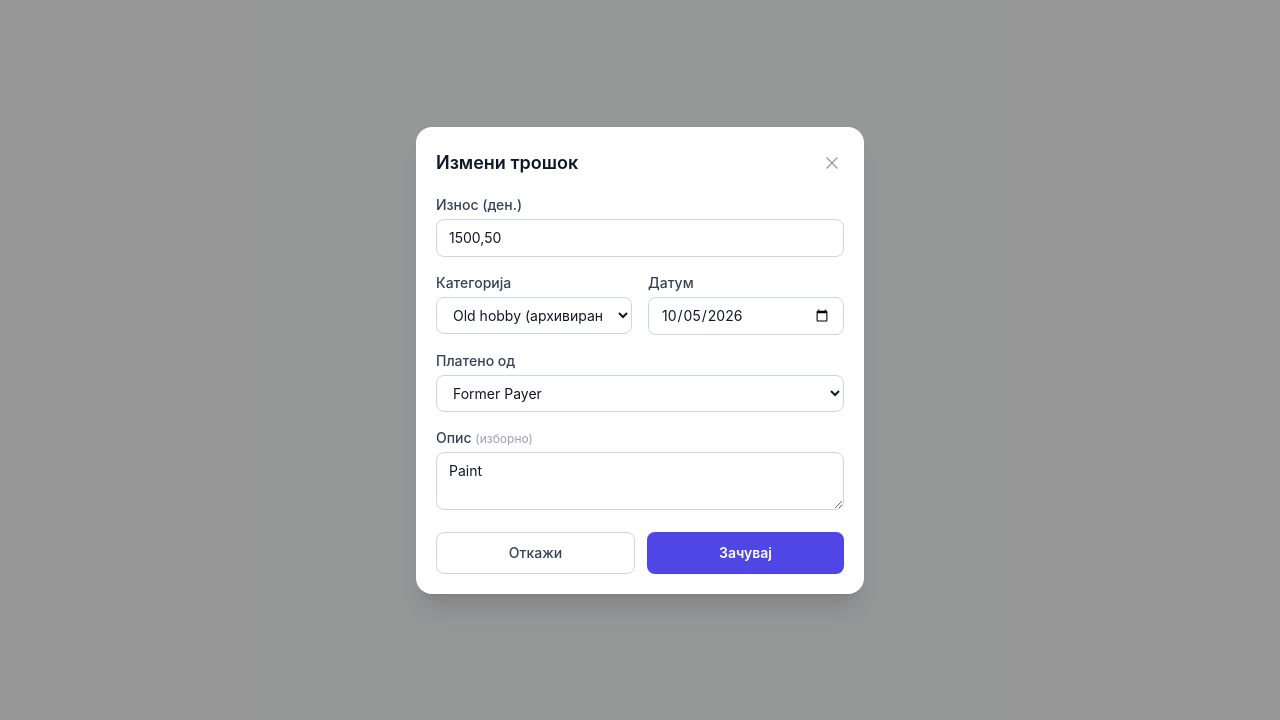
Test case: ExpenseDialog › shows Macedonian labels, a comma amount and Macedonian validation messages
expect the heading "Измени трошок" is shown: met, box [436,148,578,176]
Clear the field labelled "Износ (ден.)" at (640, 238), box [436,218,844,256]
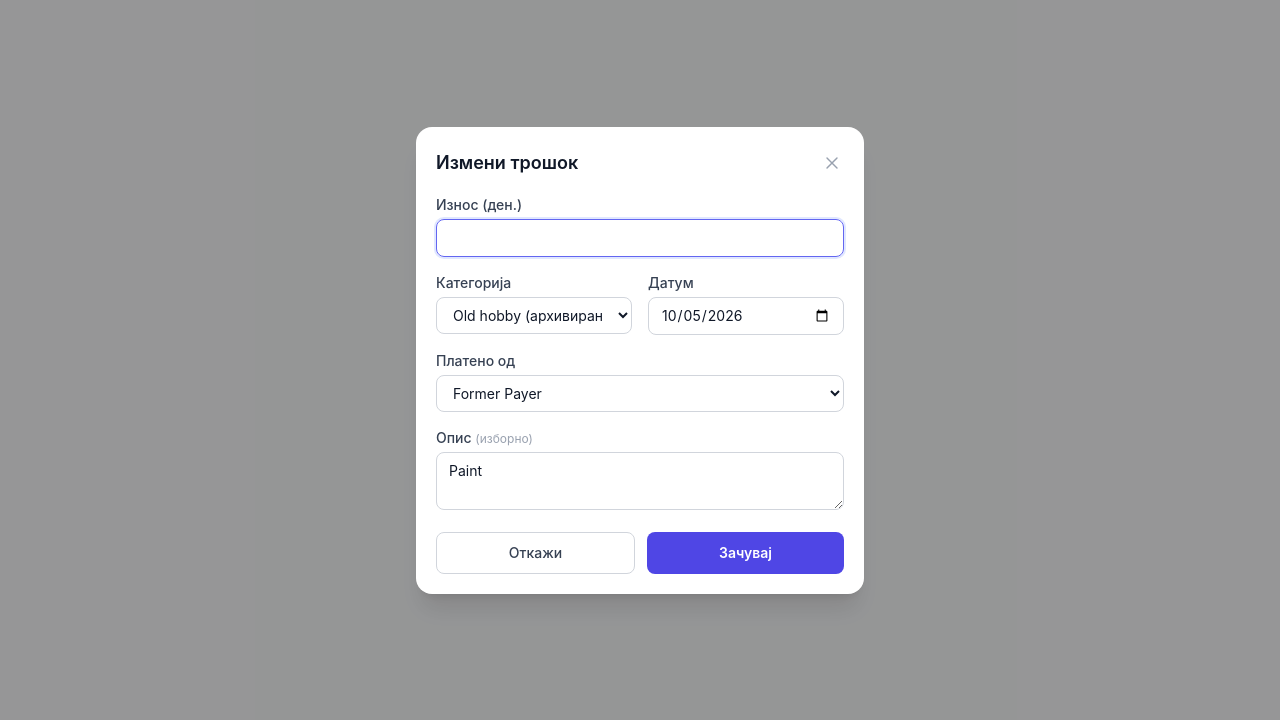
Click the button "Зачувај".
click(746, 552)  # box [647,532,844,574]
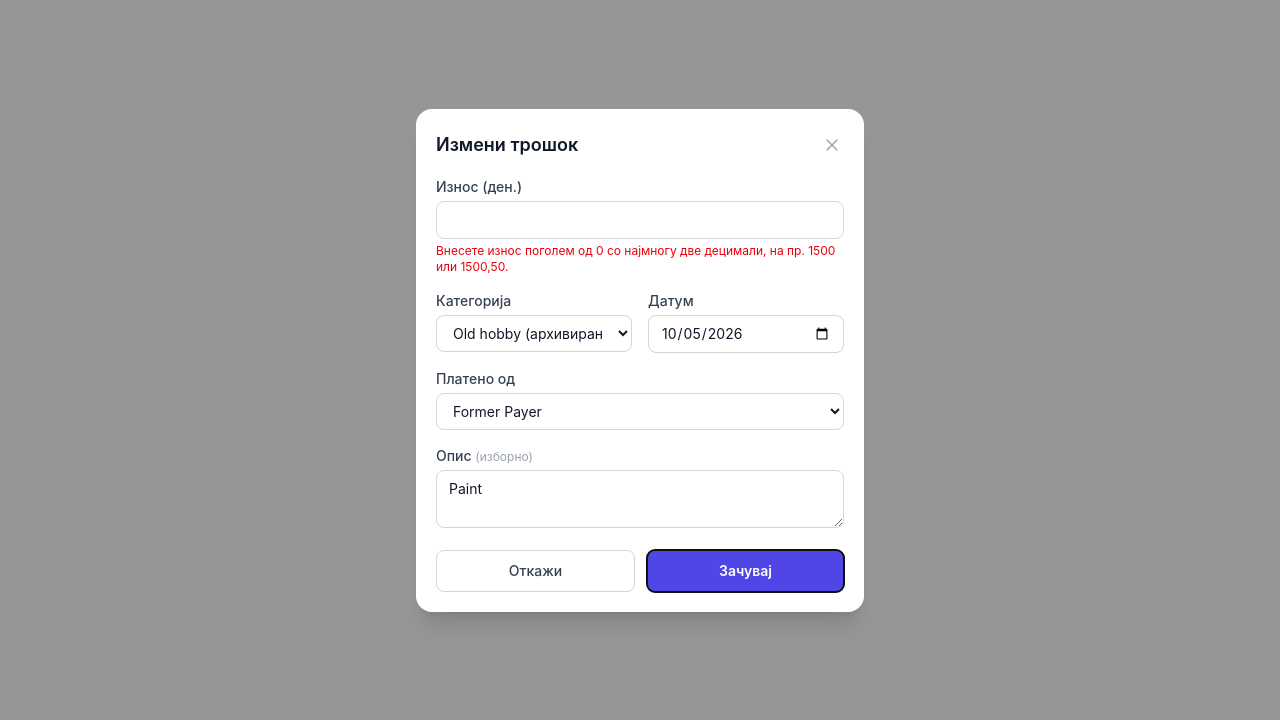
expect the text "Внесете износ поголем од 0 со најмногу две децимали, на пр. 1500 или 1500,50." is shown: met, box [436,242,844,274]
